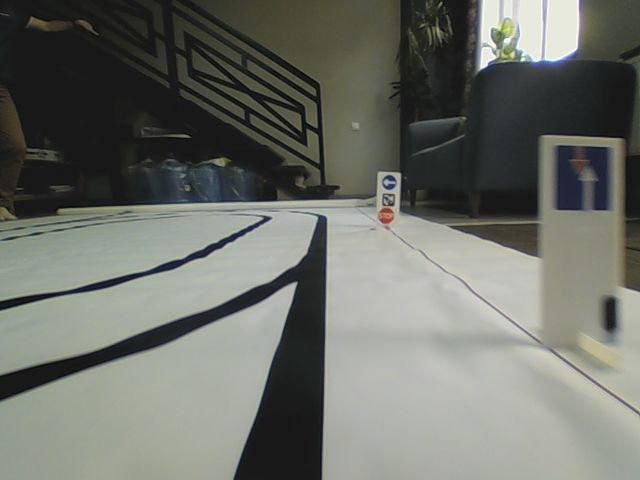Stop: (378, 207, 395, 224)
priority_movement: (549, 142, 618, 215)
